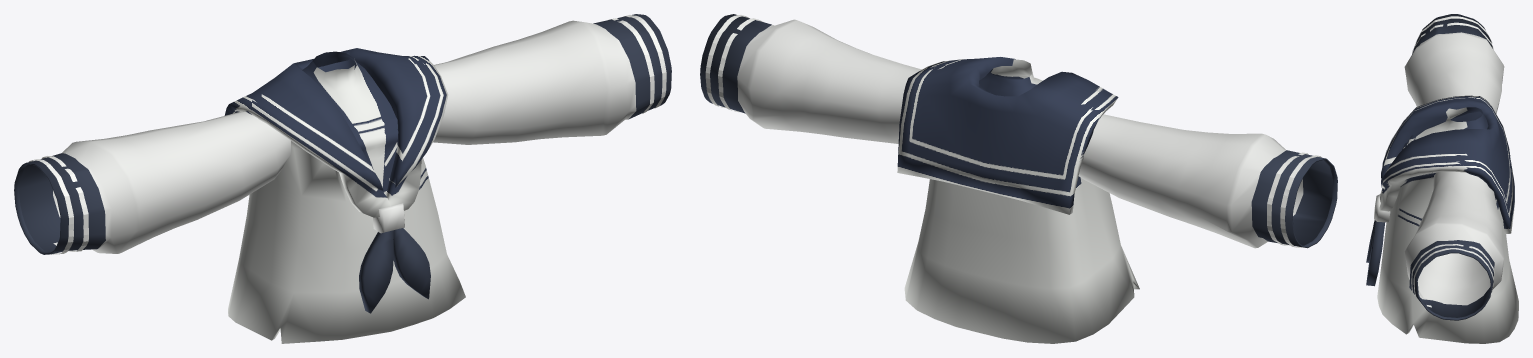
Rendered from sailor-school-top.glb.
3 views of the same model, side by side, from view 1: azimuth 30°, elevation 25°; view 2: azimuth 150°, elevation 25°; view 3: azimuth 270°, elevation 25° (orthographic). The views are drawn at different scales.
Visible parts, largest first — view 1: Sailor_top; view 2: Sailor_top; view 3: Sailor_top.
Boxes of the visible parts, x1,y1,x2,y2 form: Sailor_top: (14, 14, 671, 343); Sailor_top: (700, 14, 1337, 343); Sailor_top: (1366, 14, 1518, 343).
Size of the model in its own units: 2.82 by 1.09 by 0.7638.
5 materials, 2 textured.
